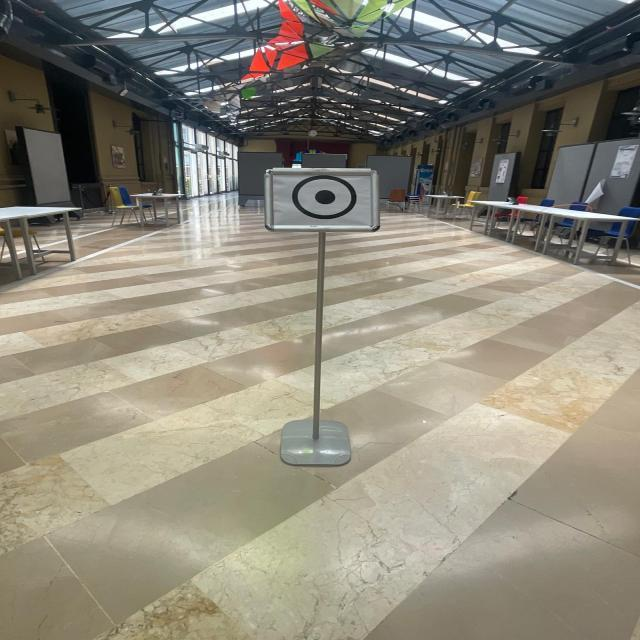Target: (256, 156, 396, 242)
inner: (304, 183, 344, 214)
